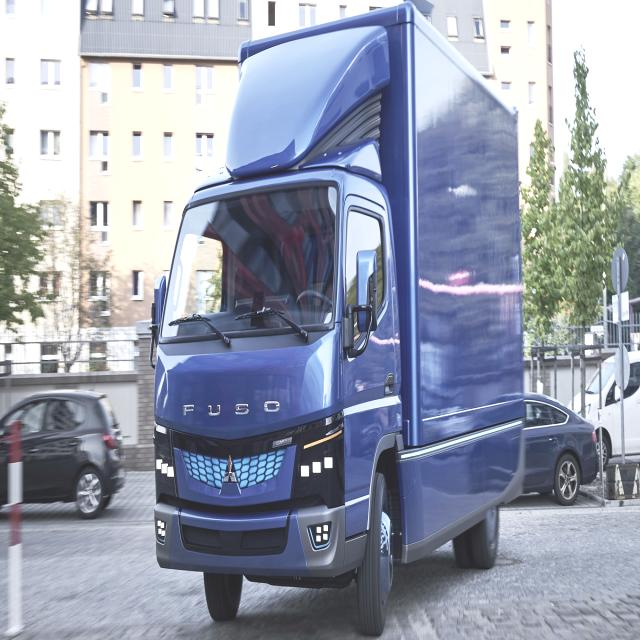truck: (152, 4, 526, 612)
